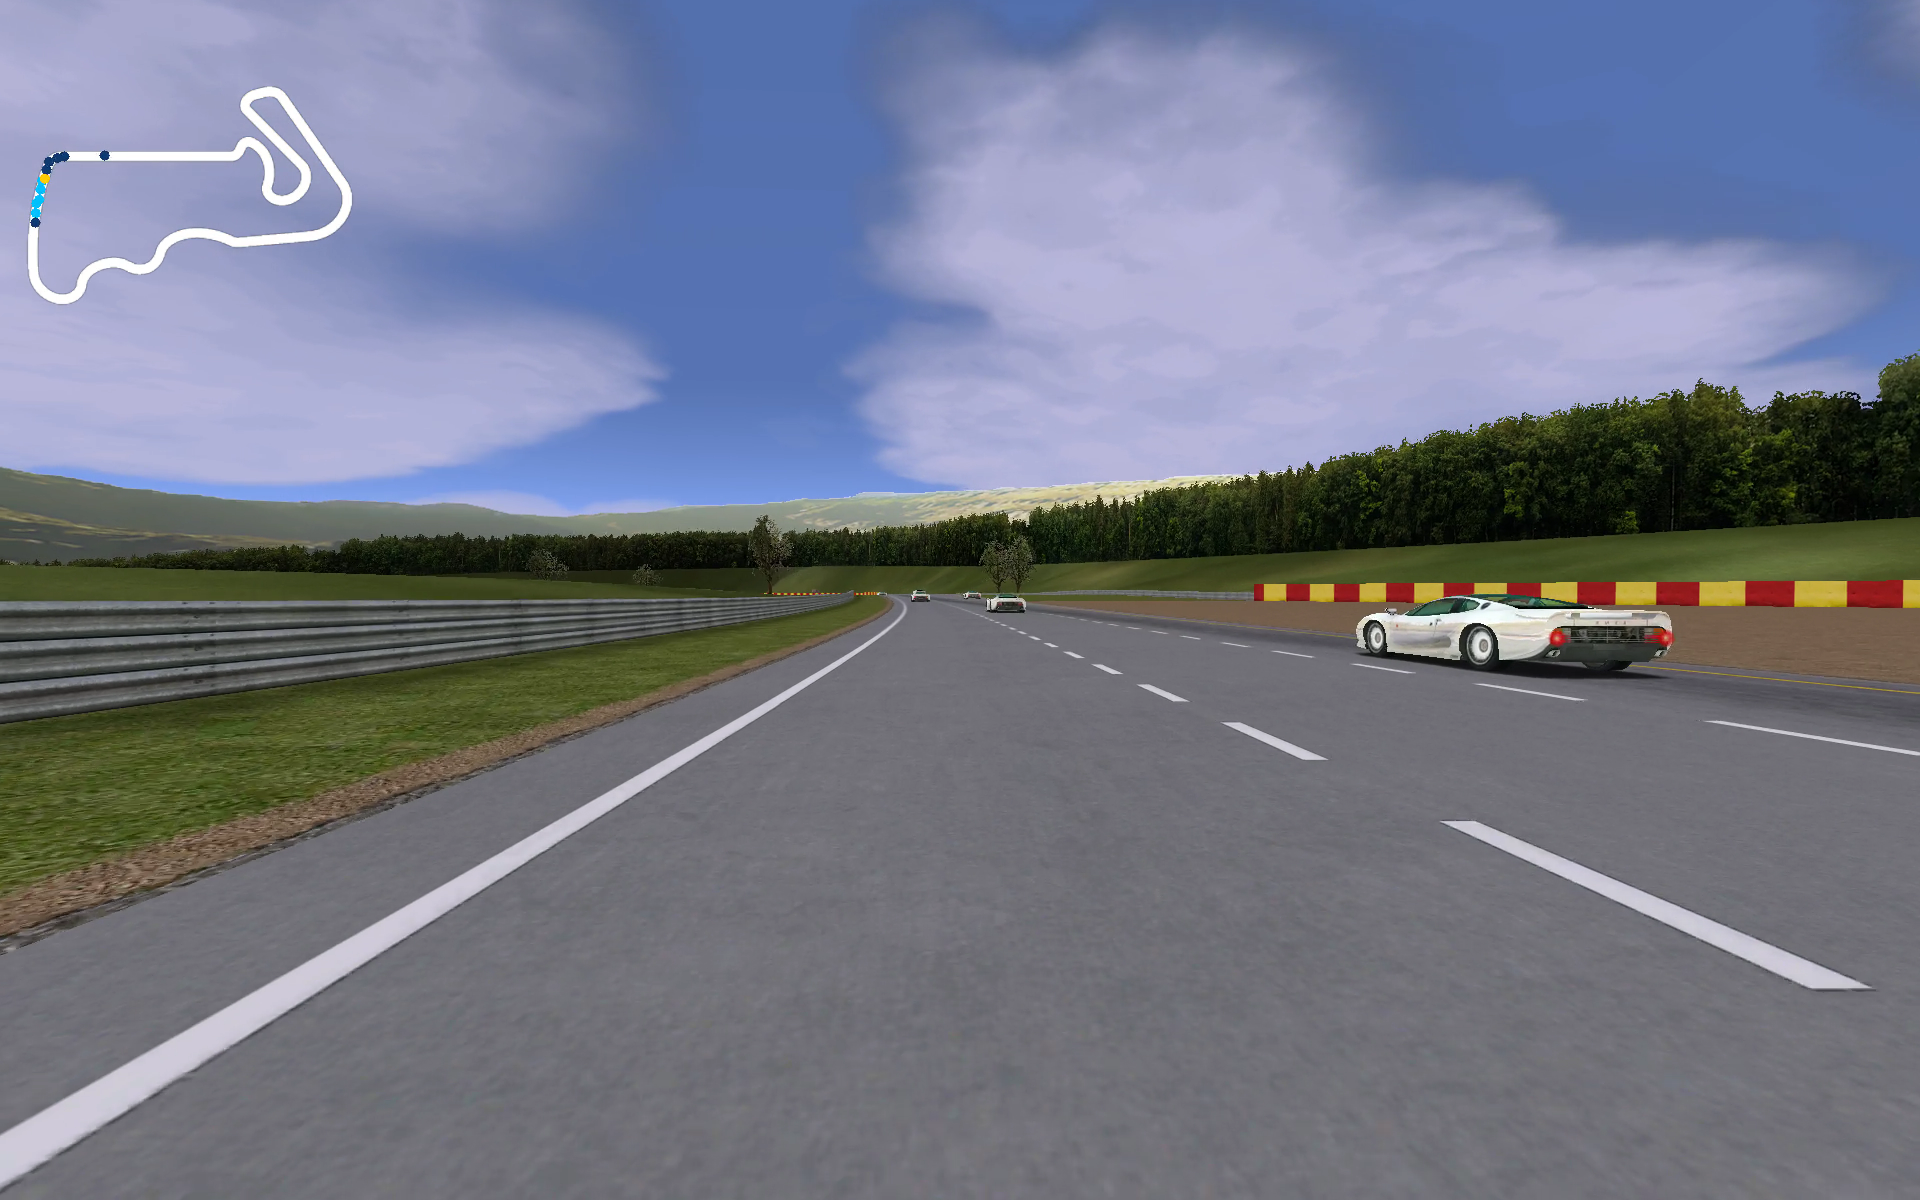car: (1352, 594, 1678, 675), (983, 590, 1028, 617), (905, 588, 932, 603)
